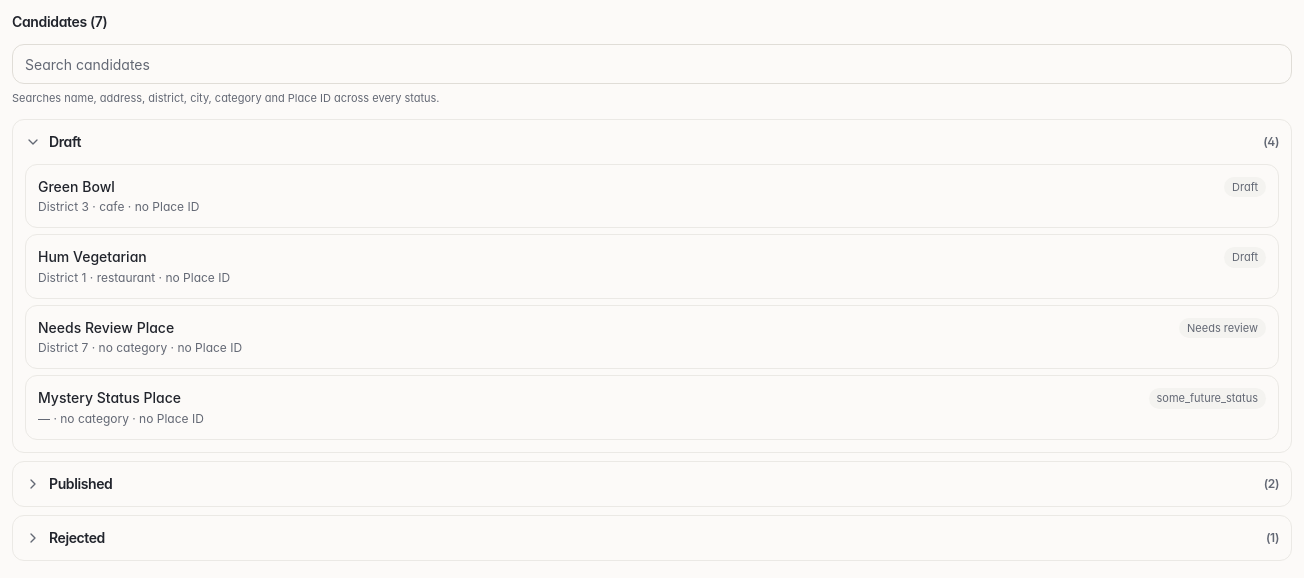
Test case: WO-128 candidate search › shows a bounded zero-result message and restores counts when cleared
Type "zzzznope" into the search field with placeholder "Search candidates" at (652, 64), box [12,44,1292,84]
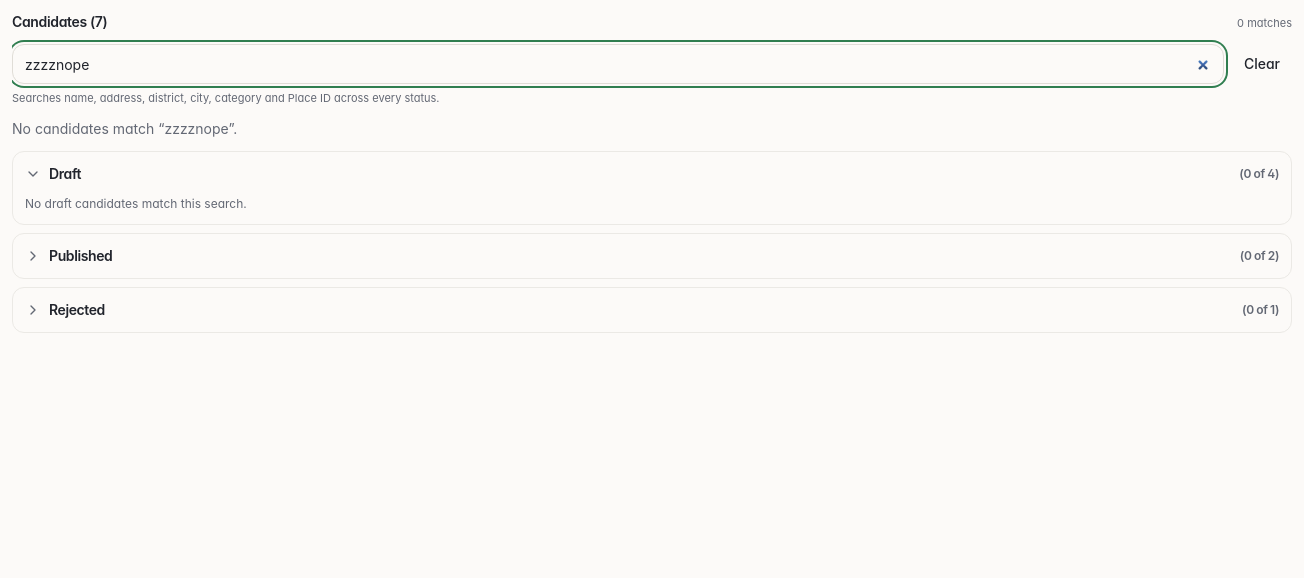
Expected: the text "No candidates match “zzzznope”." is shown, [12,120,237,136]
Click the button with aria-label "Clear candidate search" at (1262, 64), box [1232,46,1292,82]
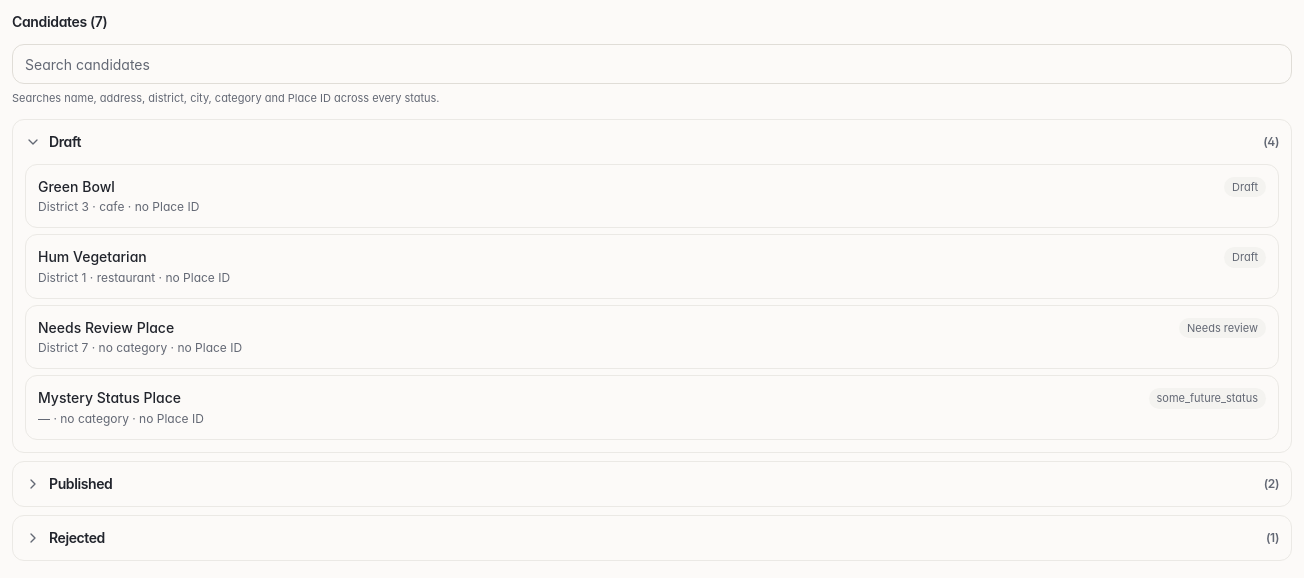
Expected: the text "Hum Vegetarian" is shown, [38,247,147,267]
